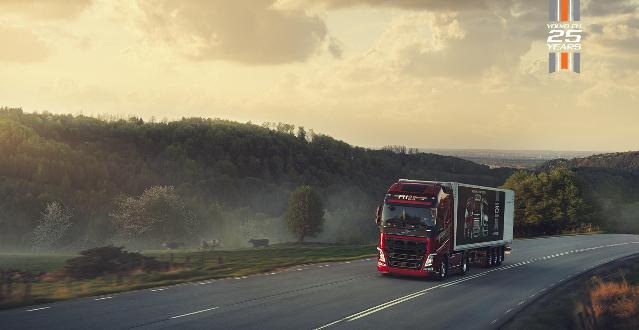truck: (367, 174, 529, 299)
